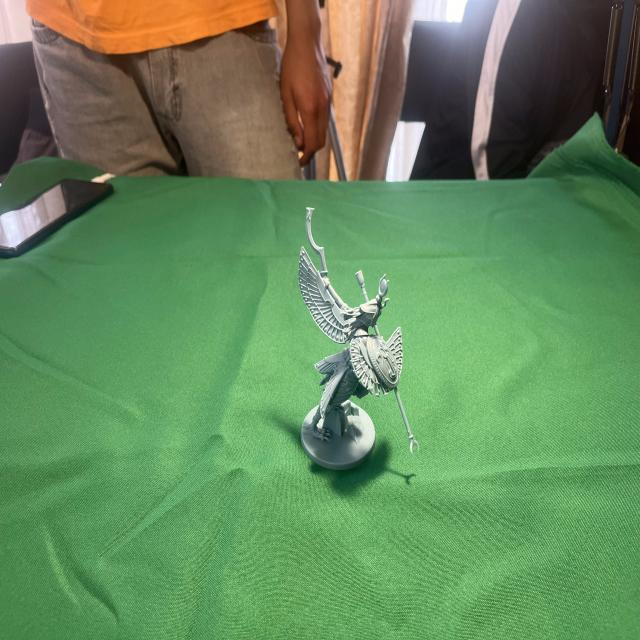isis: (288, 195, 428, 497)
